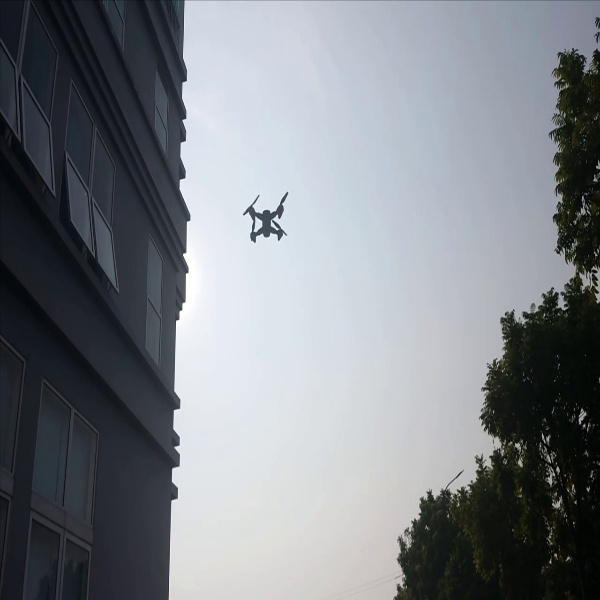drone: (238, 186, 298, 250)
